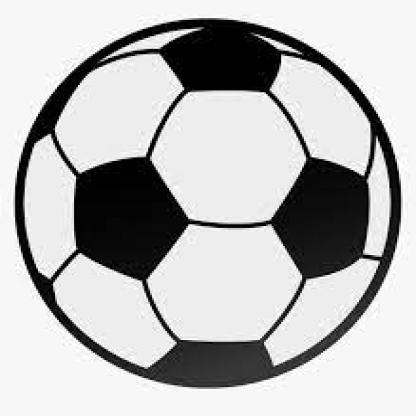ball: (3, 4, 407, 405)
